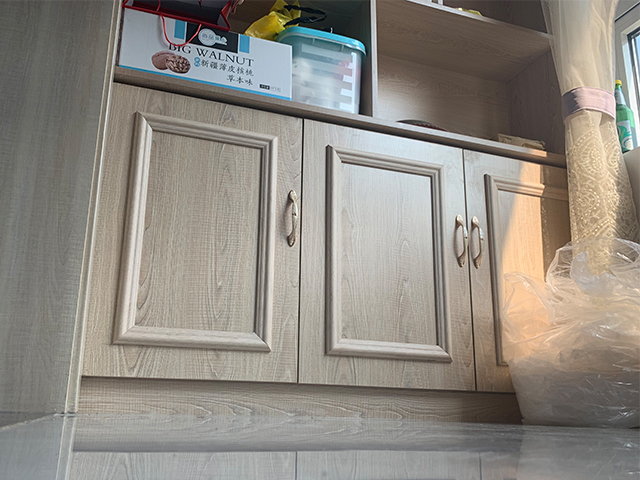cabinet: (77, 96, 568, 423)
